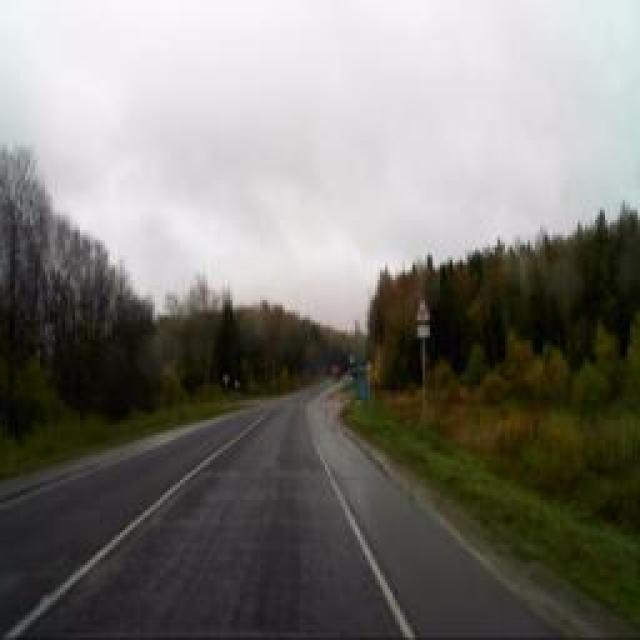sign: (412, 296, 430, 324)
